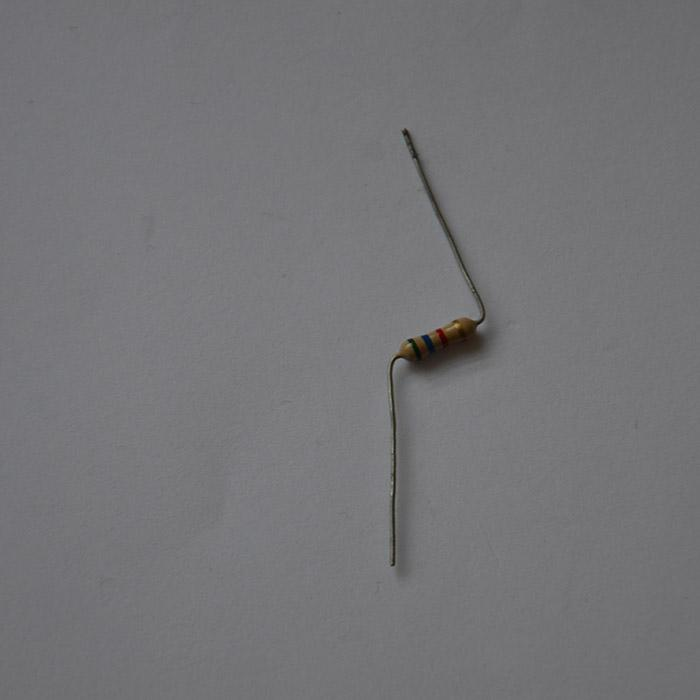resistor: (395, 317, 478, 363)
